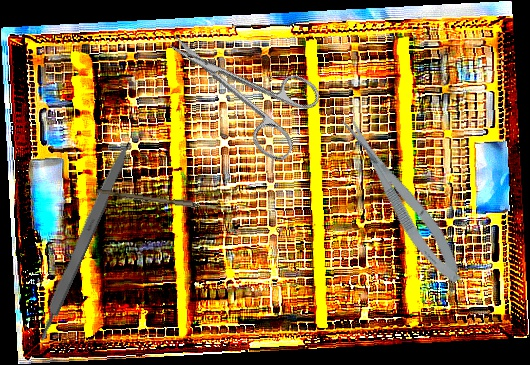Iris Scissors: (148, 2, 331, 167)
Micro Scissor: (336, 108, 470, 290)
Scalpel Handle: (31, 137, 135, 344)
Surgical Spoon: (96, 188, 230, 213)
